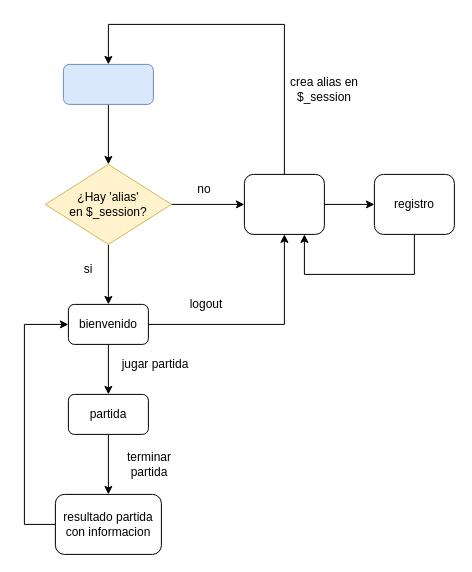
Some shapes in this 472 by 572 pixel diagram are drawn without their labels. The shapes that lost their labels are listed below. From the top down, each one's centre as x and y in pixels, then its label:
point (107, 83): index
point (283, 203): login
